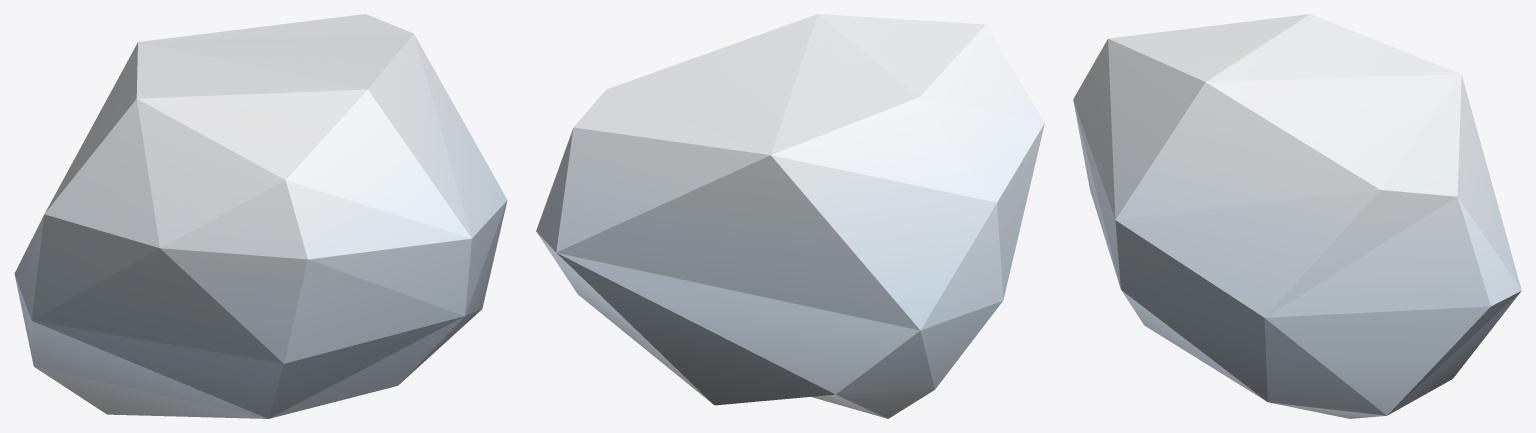
File: Snowy_Stone_007.FBX
The picture shows the model from 3 angles, left to right: view 1: azimuth 30°, elevation 25°; view 2: azimuth 150°, elevation 25°; view 3: azimuth 270°, elevation 25°; orthographic projection. The views are drawn at different scales.
Parts seen in each view (by area): view 1: Snowy_Stone_007; view 2: Snowy_Stone_007; view 3: Snowy_Stone_007.
Boxes of the visible parts, bbox=[...] form: Snowy_Stone_007: bbox=[14, 14, 507, 418]; Snowy_Stone_007: bbox=[536, 14, 1044, 418]; Snowy_Stone_007: bbox=[1073, 14, 1521, 418].
Bounding box in the file's own units: 75.33 × 56.94 × 72.63.
1 material, 1 textured.
